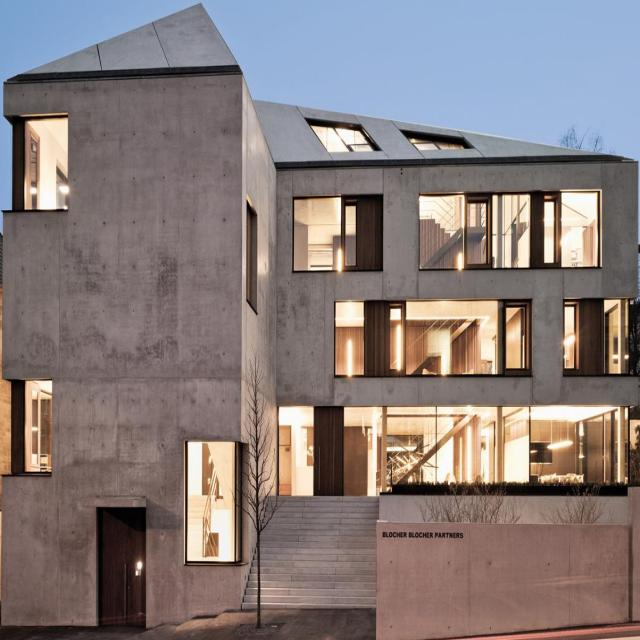door: (97, 507, 146, 627), (314, 405, 345, 497)
window: (344, 407, 628, 491), (334, 301, 531, 376), (416, 194, 600, 266), (185, 441, 243, 567), (564, 299, 629, 373), (294, 198, 357, 270), (22, 119, 70, 209), (15, 378, 53, 476), (278, 408, 313, 496), (313, 123, 374, 150), (409, 140, 466, 151)
